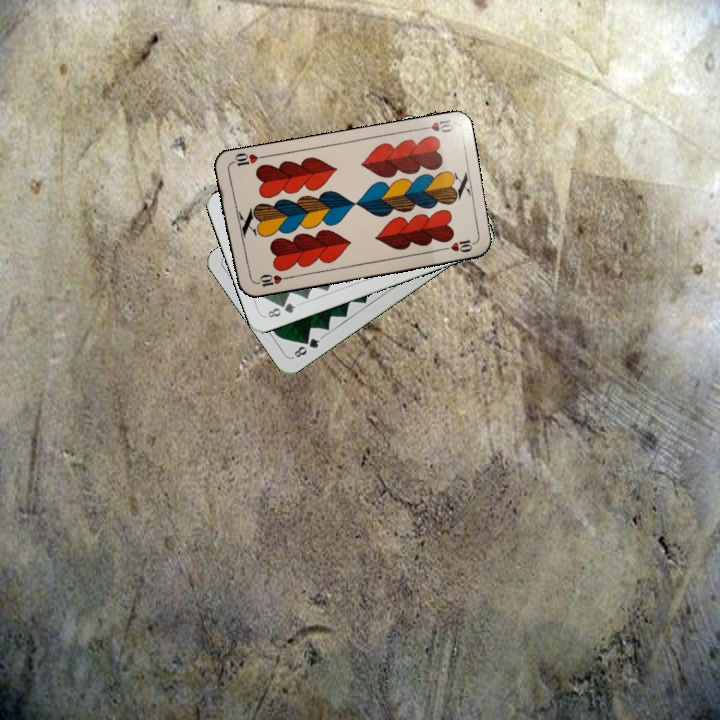G8: (289, 333, 325, 361), (263, 299, 298, 320)
H10: (415, 116, 456, 136), (250, 270, 290, 290)
